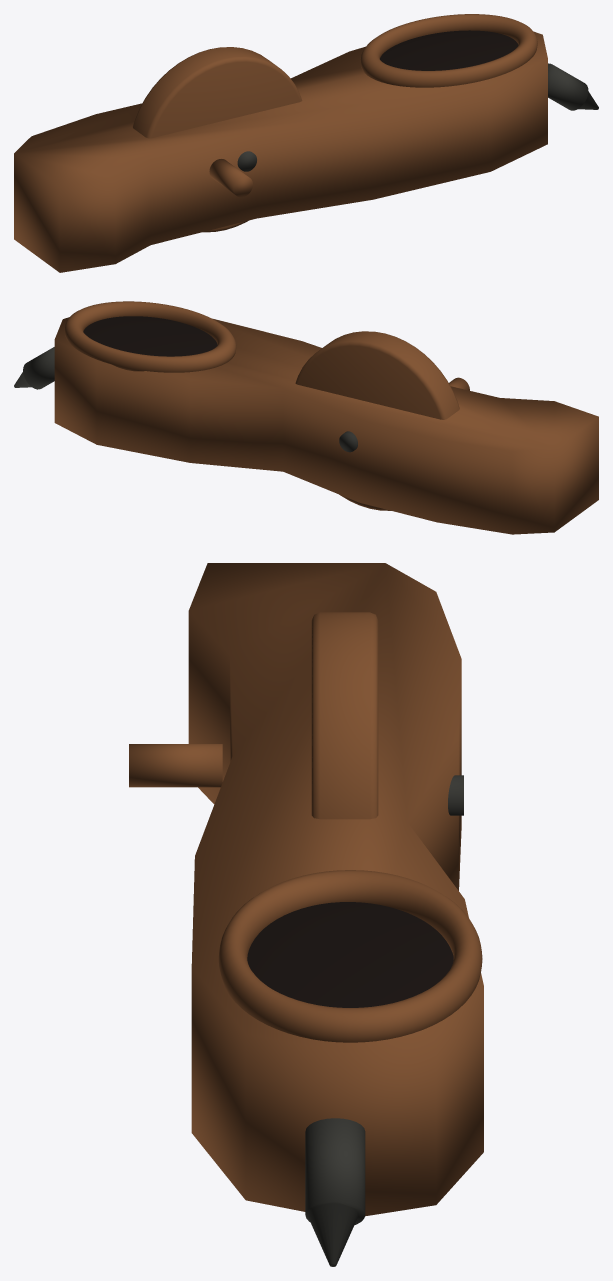
Rendered from blackline.fbx.
3 renders of one model, top to bottom at view 1: azimuth 30°, elevation 25°; view 2: azimuth 150°, elevation 25°; view 3: azimuth 270°, elevation 25°, orthographic. The views are drawn at different scales.
Visible parts, largest first — view 1: Reel_Axis, Moktong_Reel, Ink_Bowl_Rim, Ink_Surface, String_Weight; view 2: Reel_Axis, Moktong_Reel, Ink_Bowl_Rim, Ink_Surface, String_Weight; view 3: Reel_Axis, Ink_Bowl_Rim, Ink_Surface, Moktong_Reel, String_Weight.
Part boxes in pixels (x1,y1,x2,y2): Reel_Axis: (14, 31, 547, 272); Moktong_Reel: (132, 47, 302, 232); Ink_Bowl_Rim: (360, 14, 537, 87); Ink_Surface: (380, 30, 518, 70); String_Weight: (548, 63, 598, 110); Reel_Axis: (54, 317, 598, 534); Moktong_Reel: (295, 331, 459, 510); Ink_Bowl_Rim: (64, 301, 236, 372); Ink_Surface: (83, 316, 217, 356); String_Weight: (14, 347, 54, 389); Reel_Axis: (129, 563, 483, 1216); Ink_Bowl_Rim: (218, 870, 482, 1042); Ink_Surface: (247, 902, 453, 1007); Moktong_Reel: (311, 612, 378, 819); String_Weight: (305, 1118, 365, 1266).
Bounding box in the file's own units: 38.33 × 11 × 10.65.
